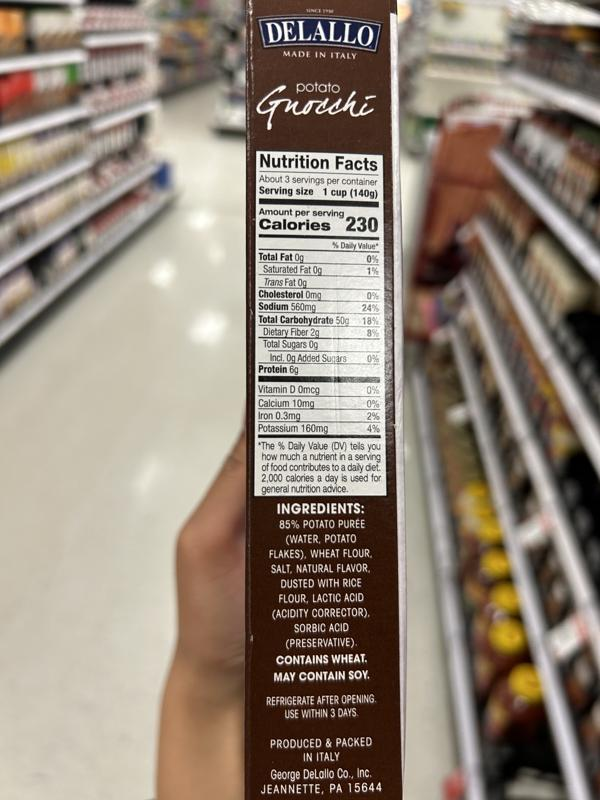ingredients: (262, 500, 377, 650)
